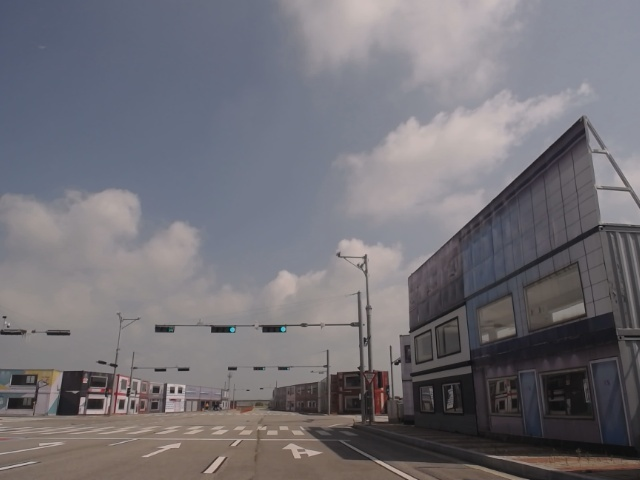straight_green_4: (263, 324, 288, 334), (212, 325, 237, 334)
